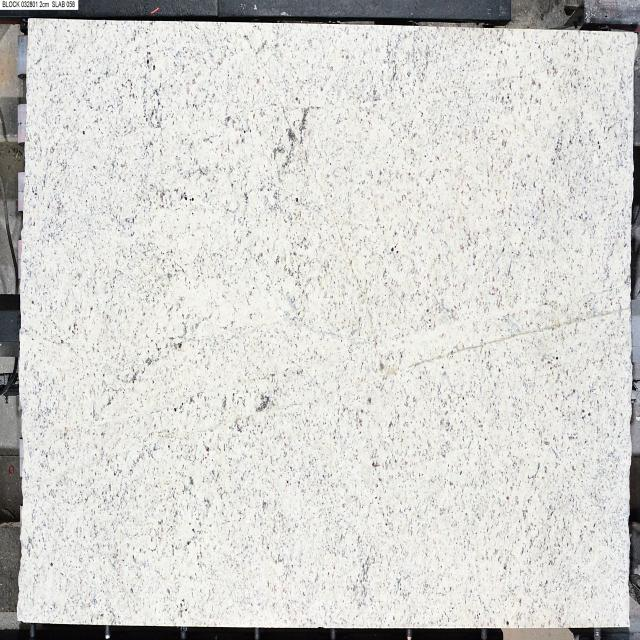chapa: (19, 19, 635, 628)
